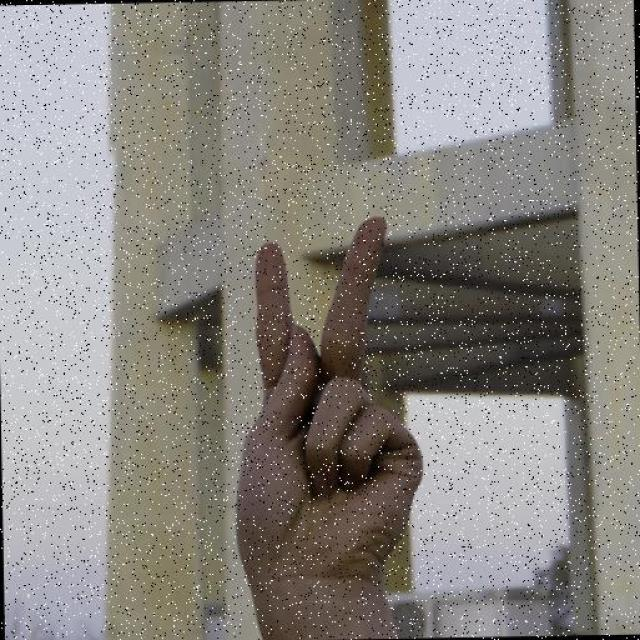K: (228, 211, 431, 640)
